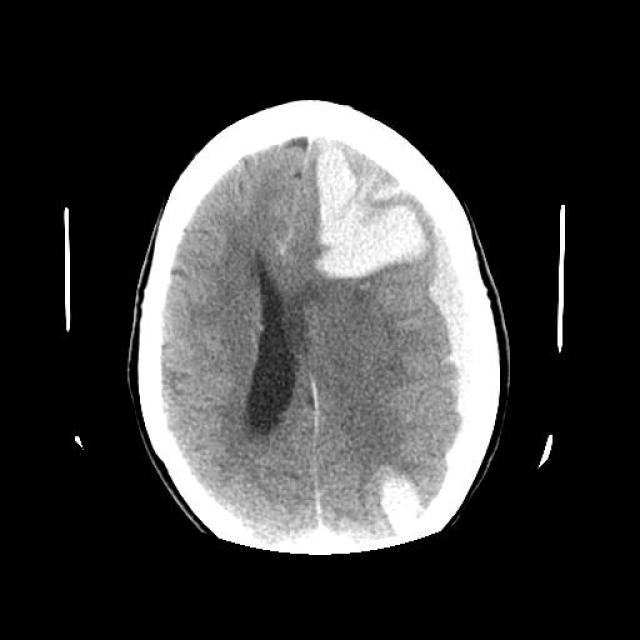Intraparenchymal: (298, 134, 428, 296), (379, 464, 431, 540)
Subdural: (430, 237, 525, 514)
